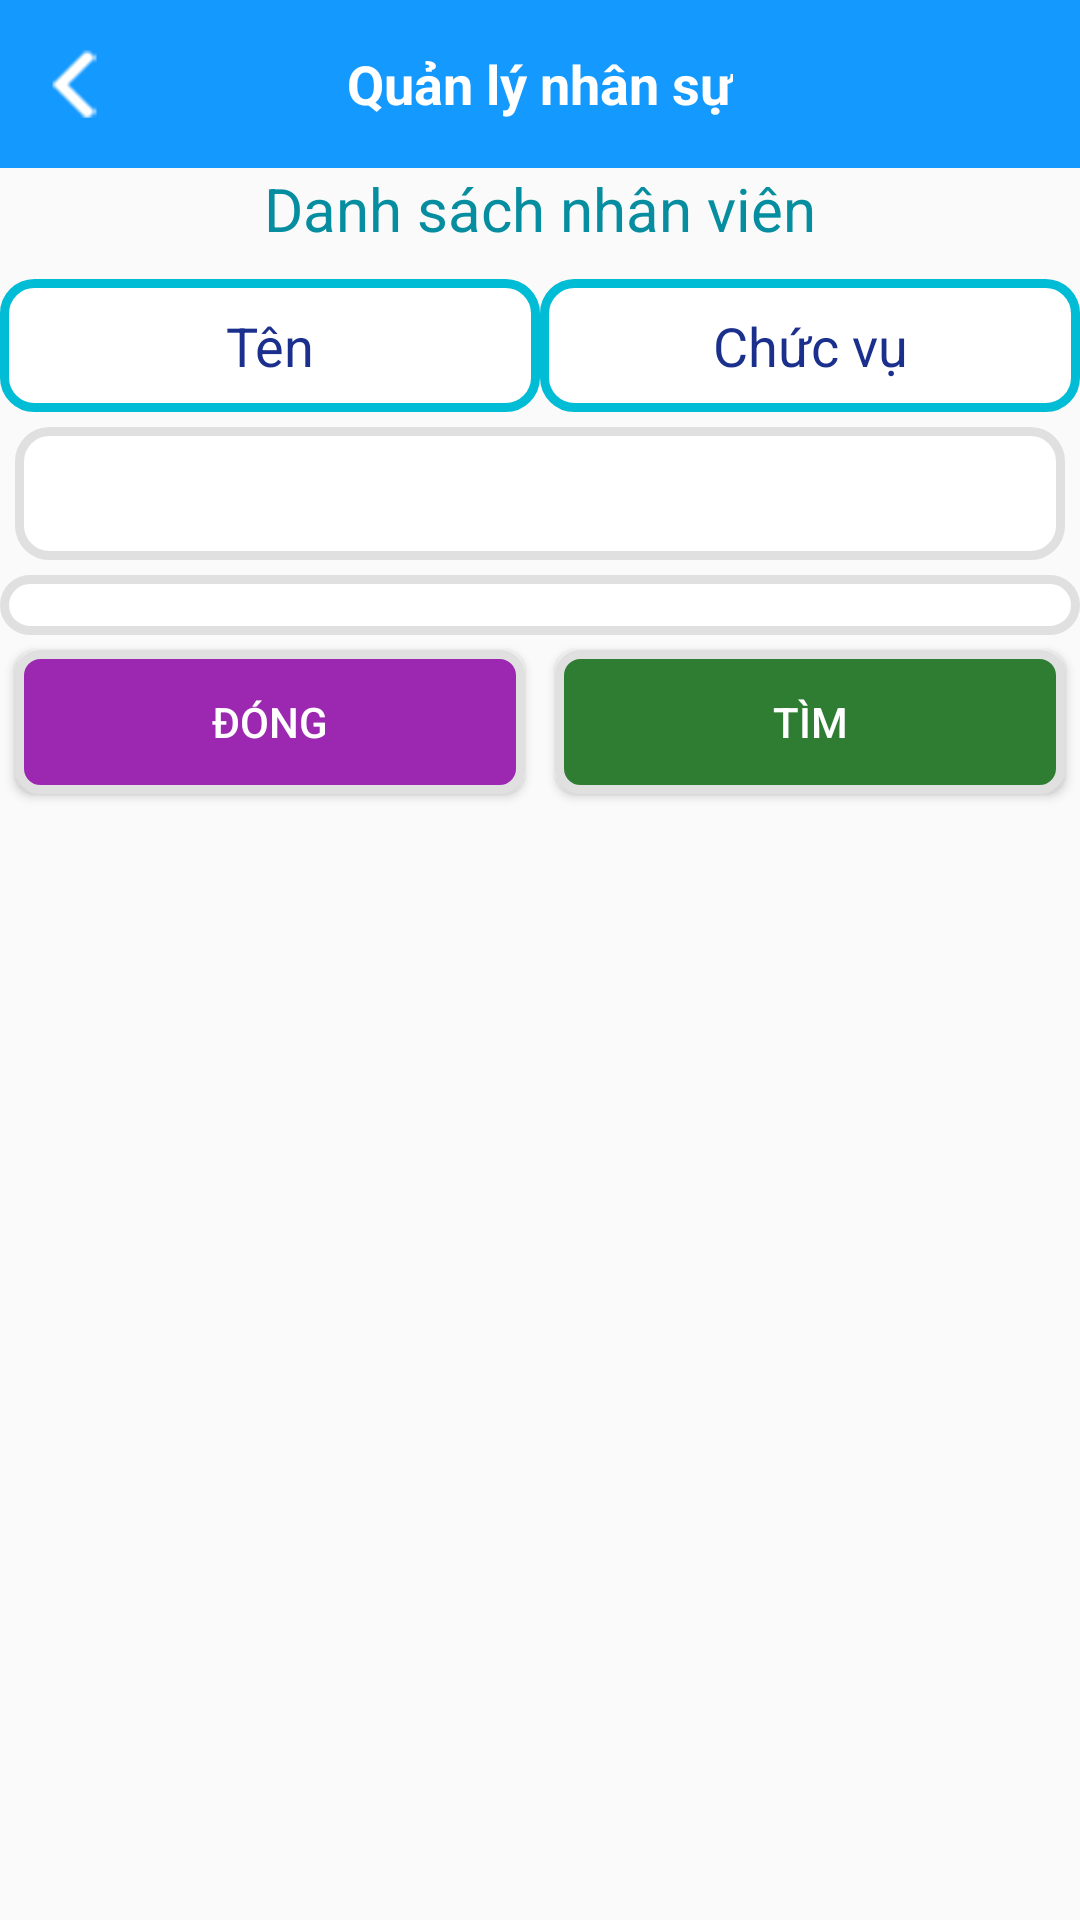

Icons on this 1080 x 1920 Android screen, each with the point to tap as (x=x, y=y):
arrow left: (x=74, y=84)
